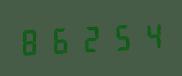eight: (18, 23, 46, 58)
five: (105, 19, 133, 53)
four: (134, 17, 162, 52)
six: (47, 22, 75, 56)
two: (76, 20, 104, 55)
